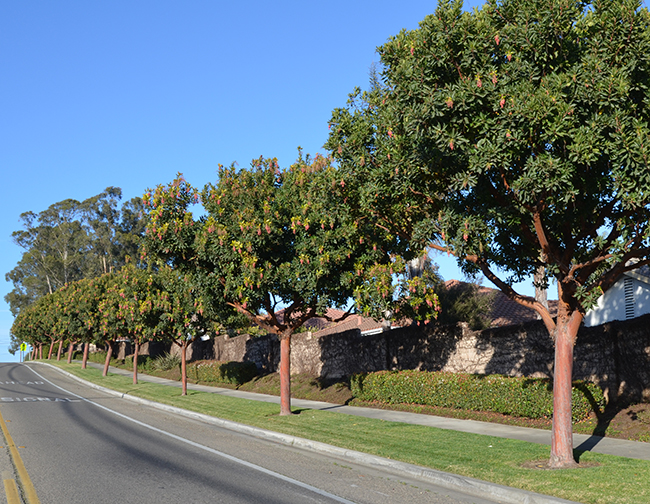tree: (321, 1, 650, 470), (195, 145, 390, 418)
